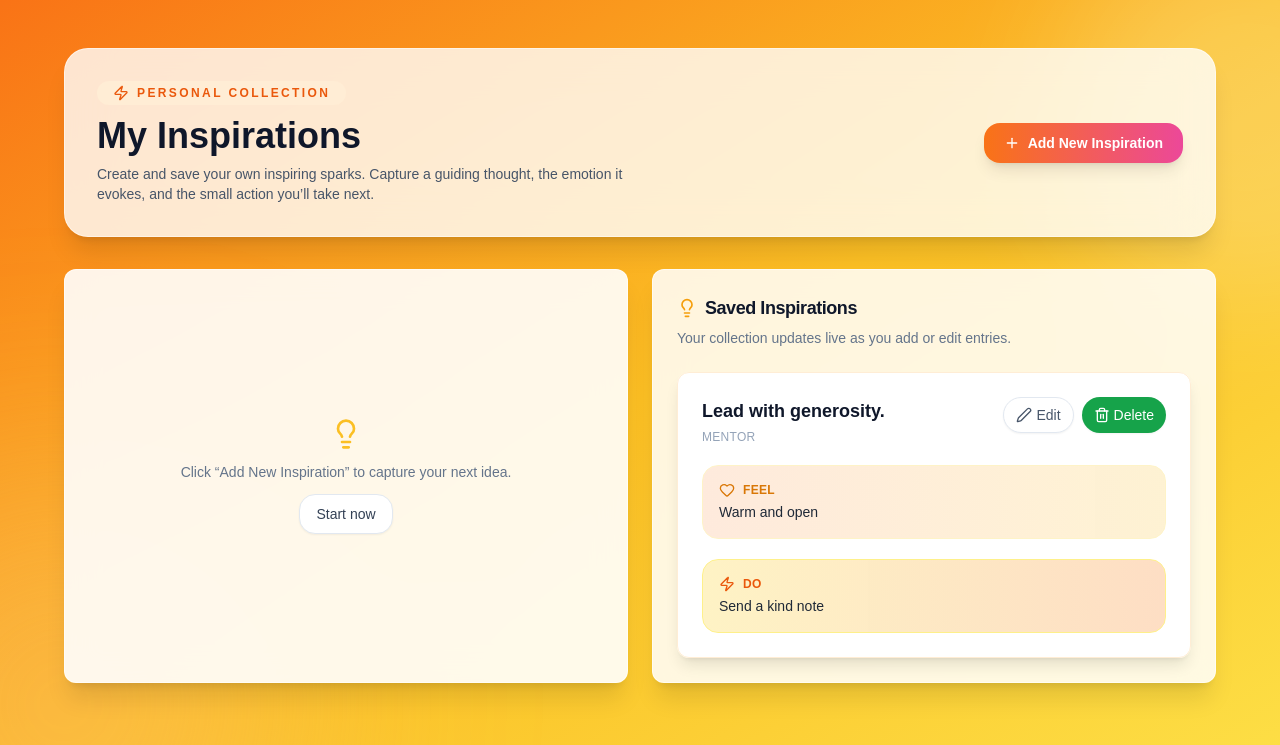
MyInspirationsPage › renders the saved inspirations and opens the form when requested
Expected: the text "Lead with generosity." is shown, left=702, top=397, right=885, bottom=425
Expected: the heading "My Inspirations" is shown, left=97, top=115, right=361, bottom=156
Click the button "Add New Inspiration".
click(1083, 142)  # box left=984, top=122, right=1183, bottom=162
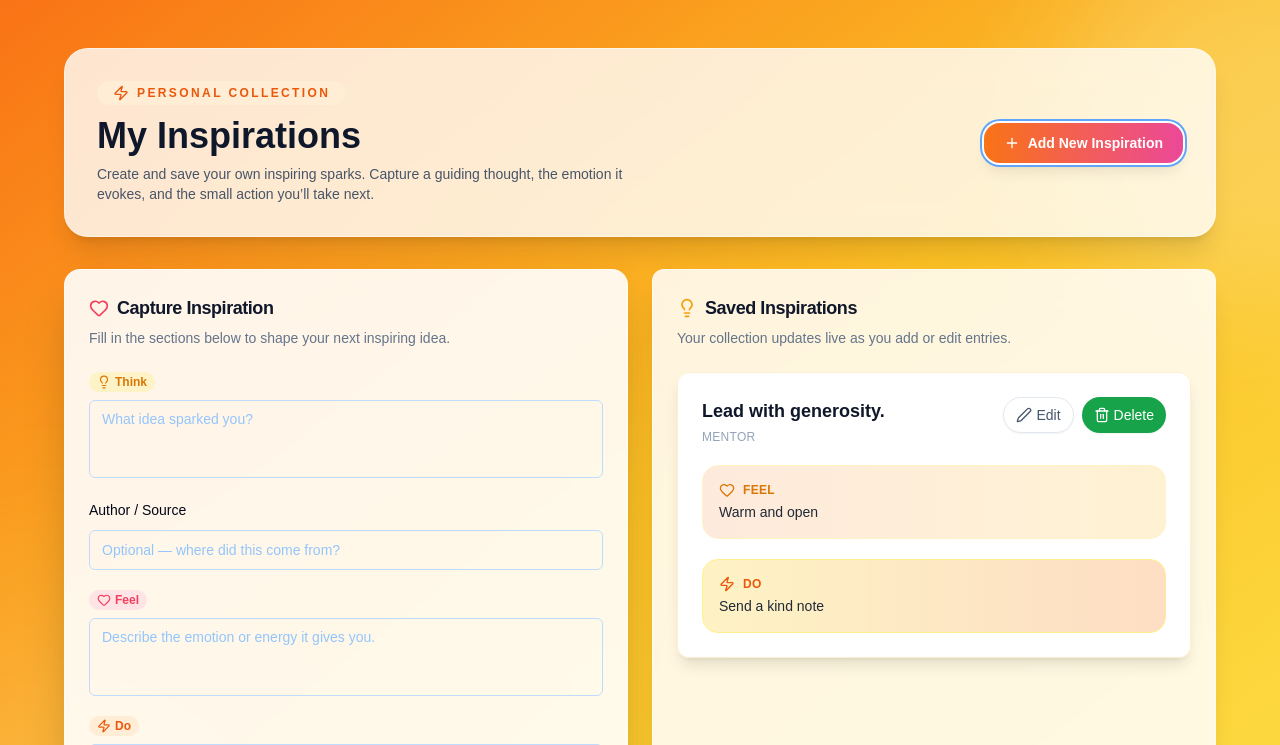
Expected: the heading "Capture Inspiration" is shown, left=89, top=298, right=274, bottom=318
